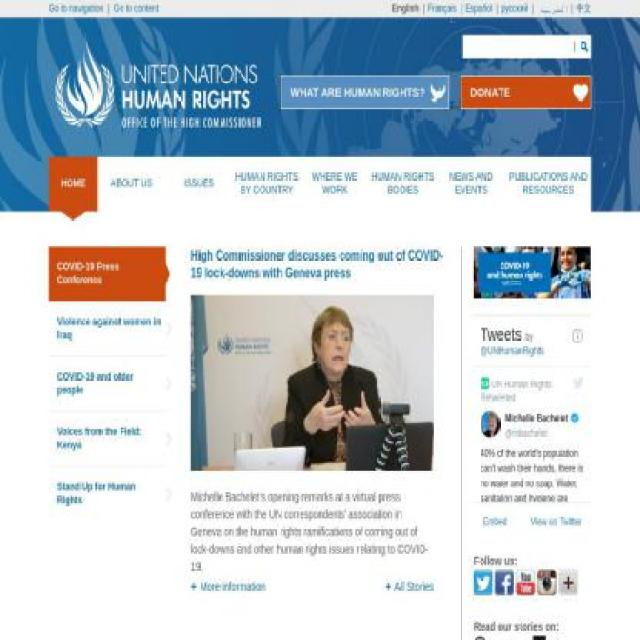button: (48, 29, 268, 133), (48, 245, 167, 301), (48, 355, 167, 411), (48, 465, 167, 521), (48, 301, 167, 356), (48, 411, 167, 466), (280, 75, 449, 110), (460, 75, 591, 110), (191, 576, 266, 598), (385, 576, 433, 598), (575, 34, 593, 58)
field: (462, 34, 576, 58)
